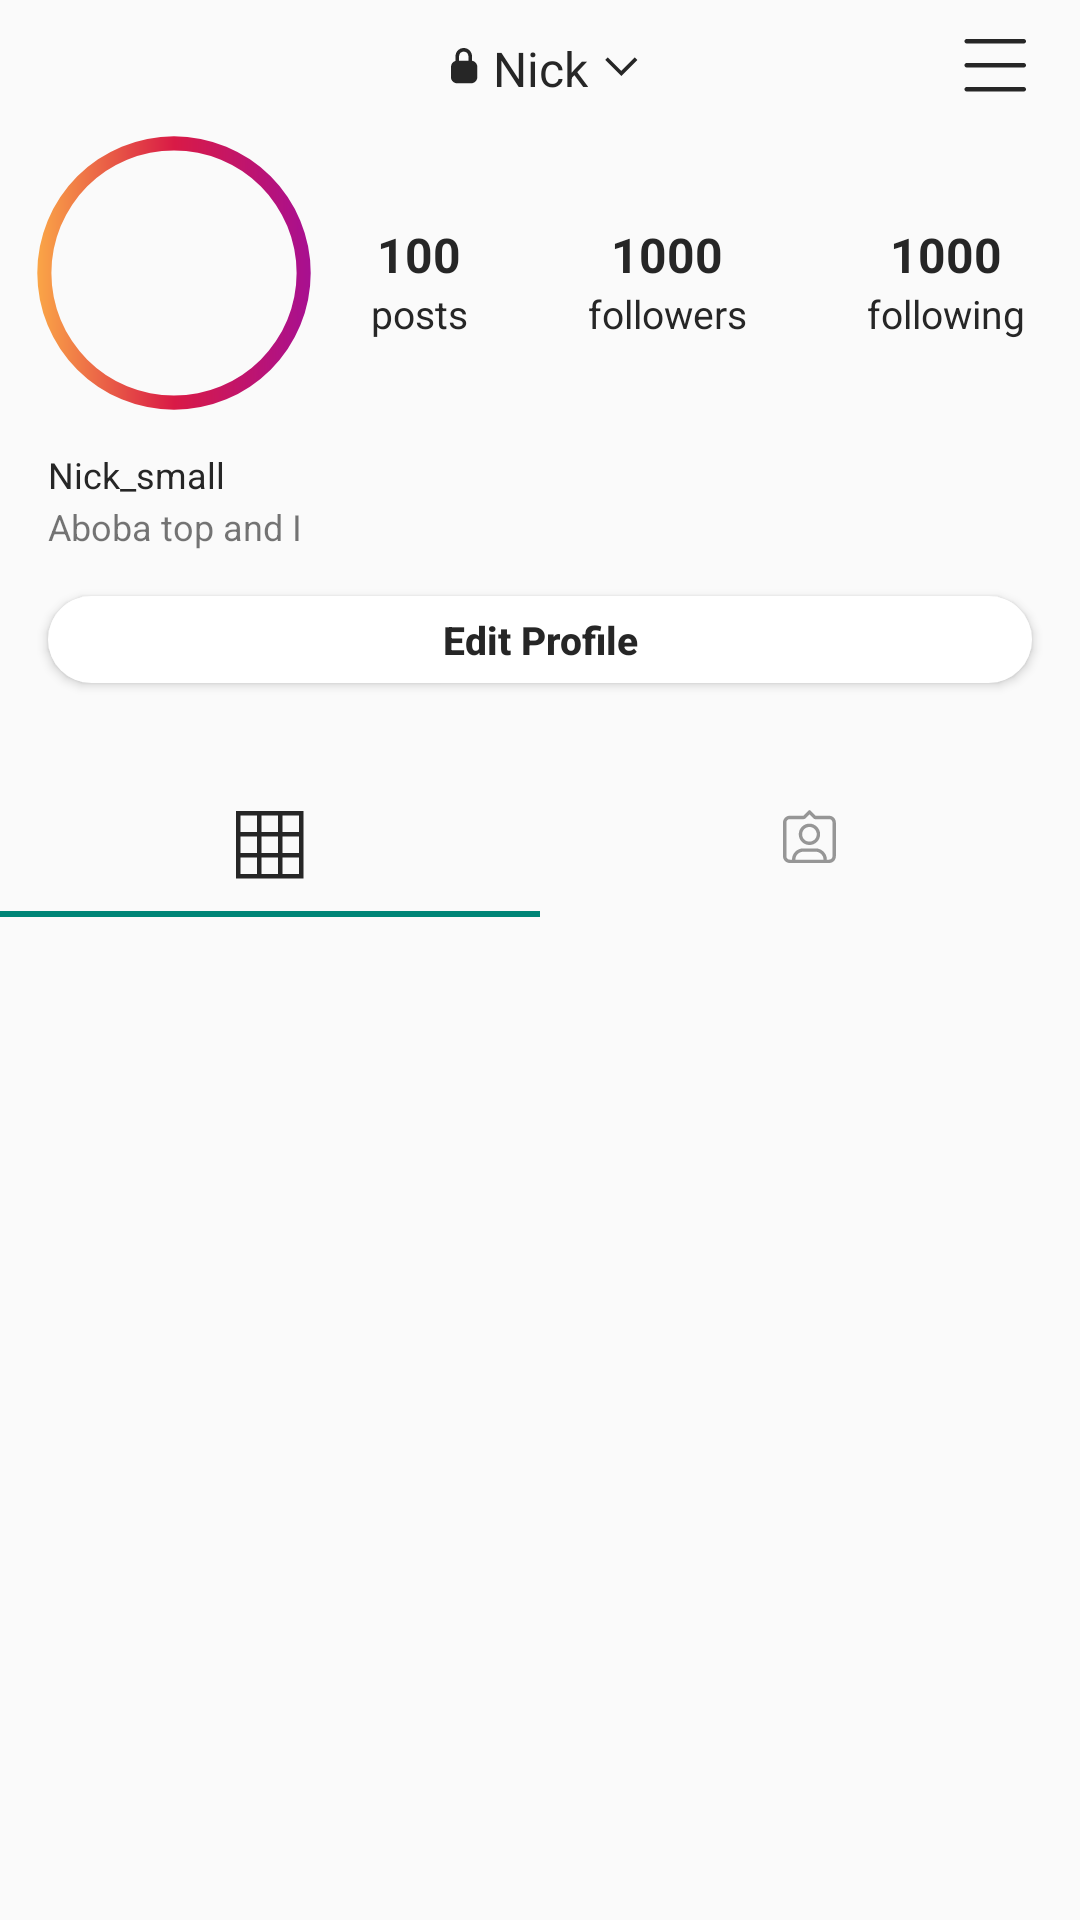

Named icons in this screenshot (1080*1920) and their centers, (x,y):
accounts list: (621,66)
menu: (995,65)
private: (464,66)
